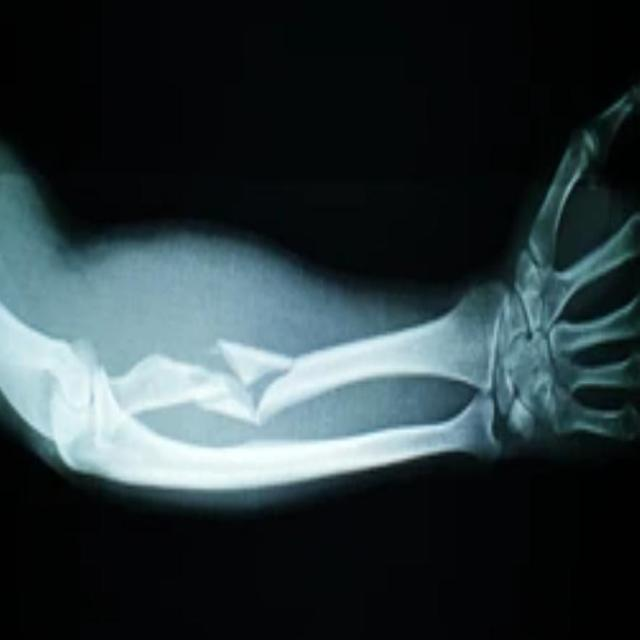bone: (150, 328, 305, 428)
